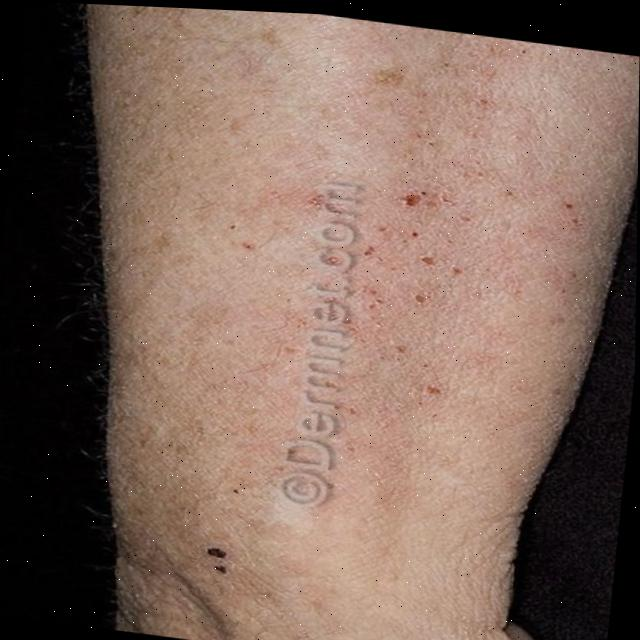Eczema: (274, 155, 525, 474)
